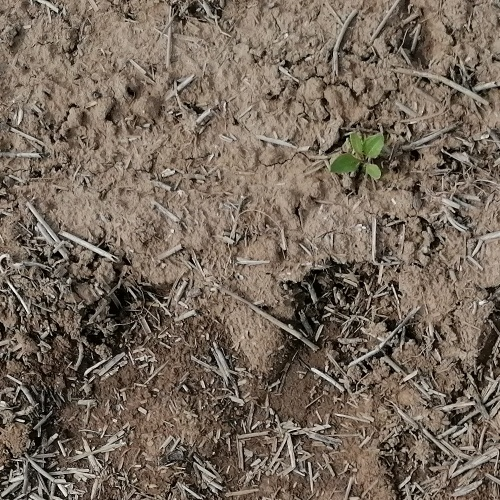beet: (329, 132, 386, 179)
